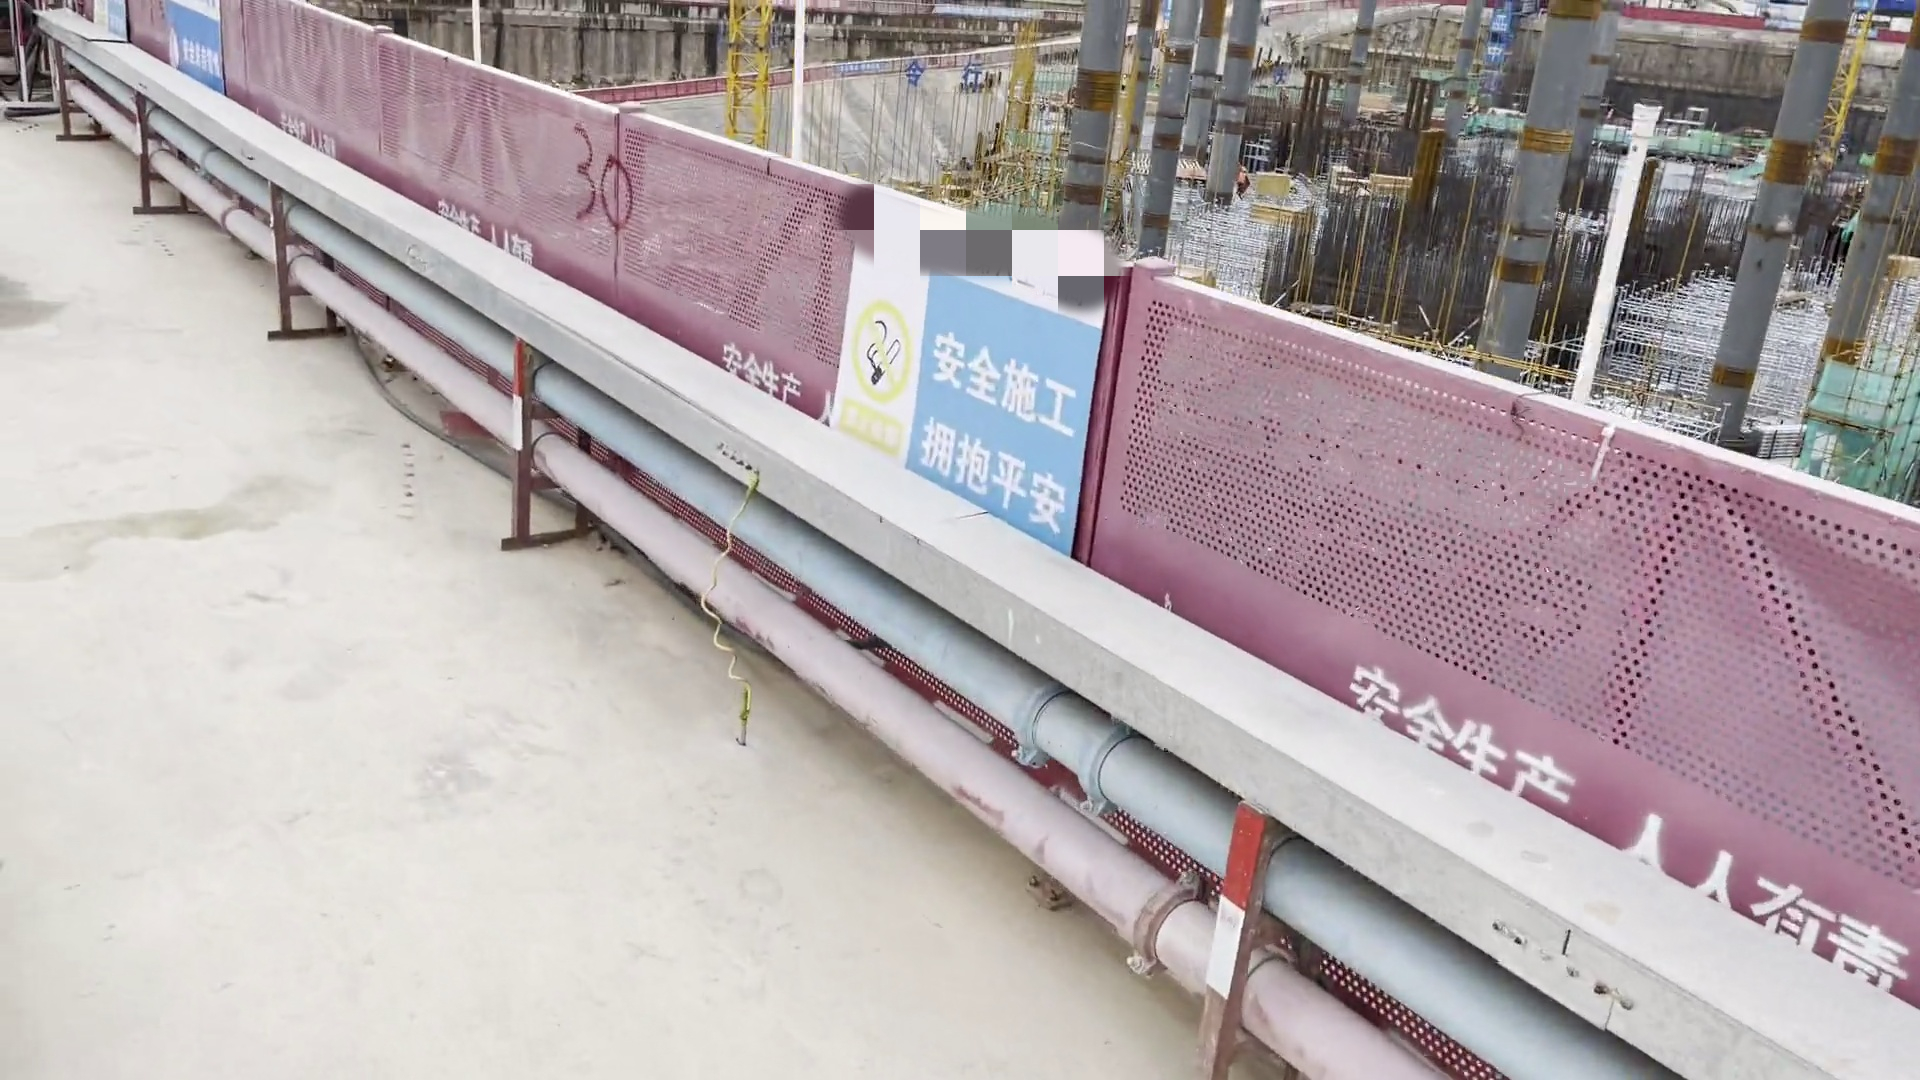fence: (1381, 373, 1920, 1029), (890, 231, 1400, 750), (417, 92, 963, 448), (73, 1, 560, 214)
scaffold: (1753, 409, 1803, 462)
slogan: (825, 178, 1141, 572), (152, 1, 252, 103), (1480, 8, 1523, 100), (79, 1, 144, 54)
wood: (1251, 171, 1309, 228), (1178, 260, 1226, 291)
